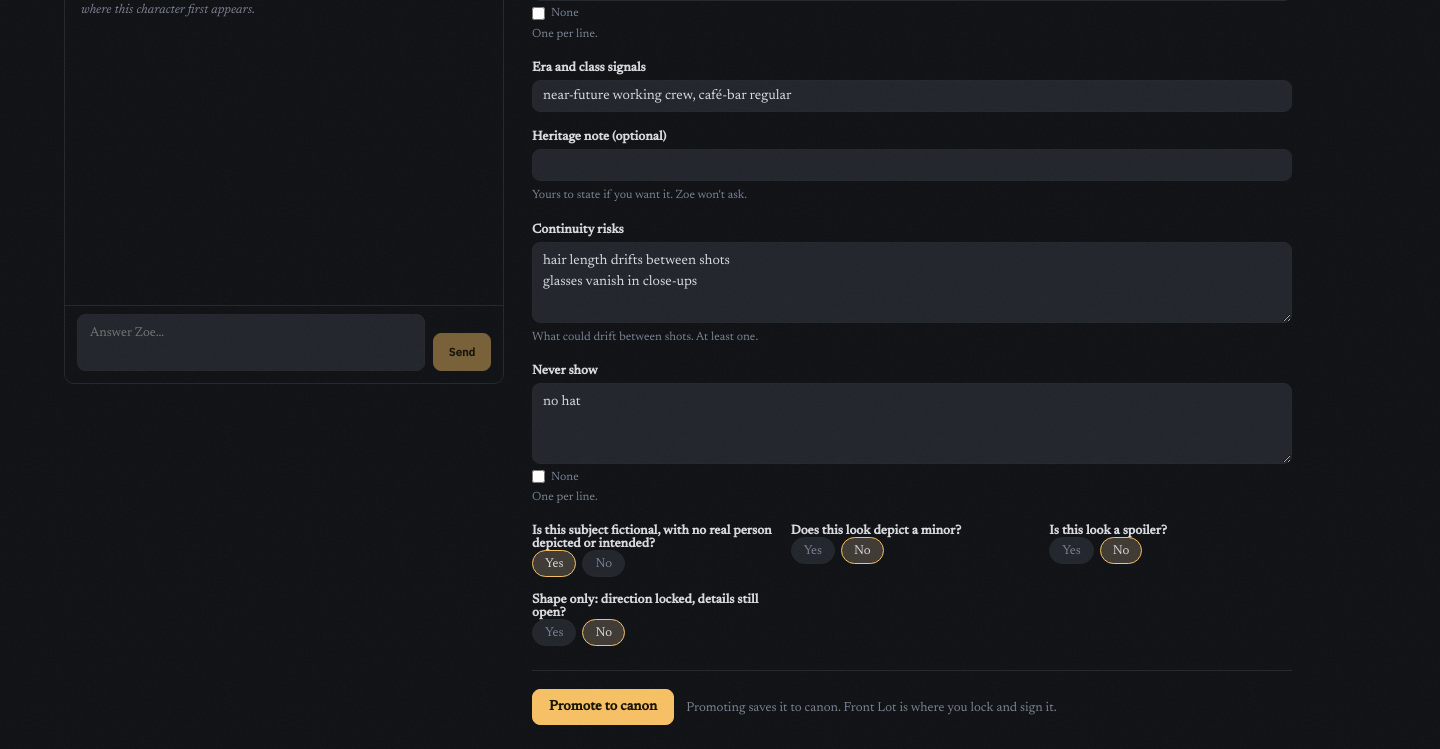
Test: Promote › shows the server problems as sentences on a 400
(page scrolled)
Click the button "Promote to canon": (603, 707) x1=532 y1=689 x2=674 y2=725
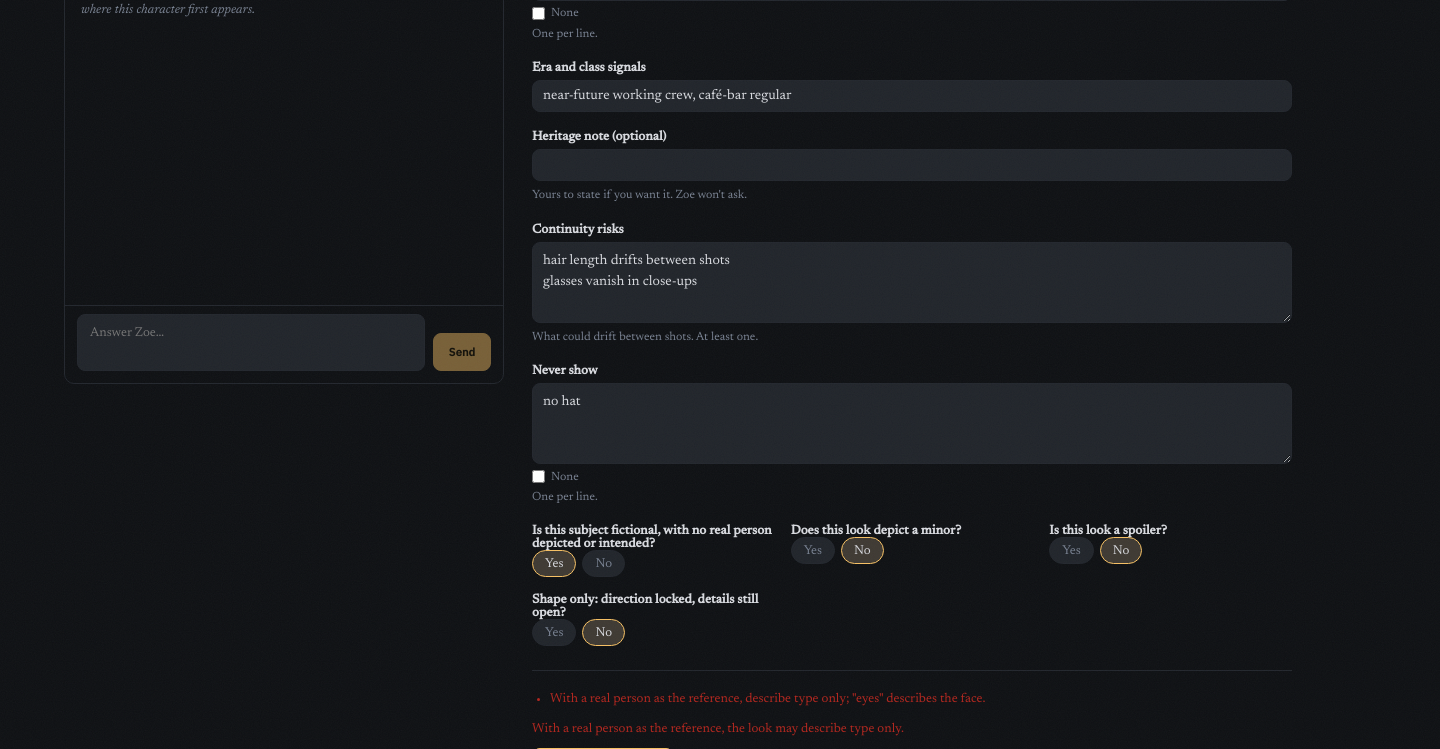
Expected: the message shows "may describe type only", x1=532 y1=722 x2=904 y2=735
Expected: the list item "\"eyes\" describes the face" is shown, x1=550 y1=692 x2=986 y2=705
